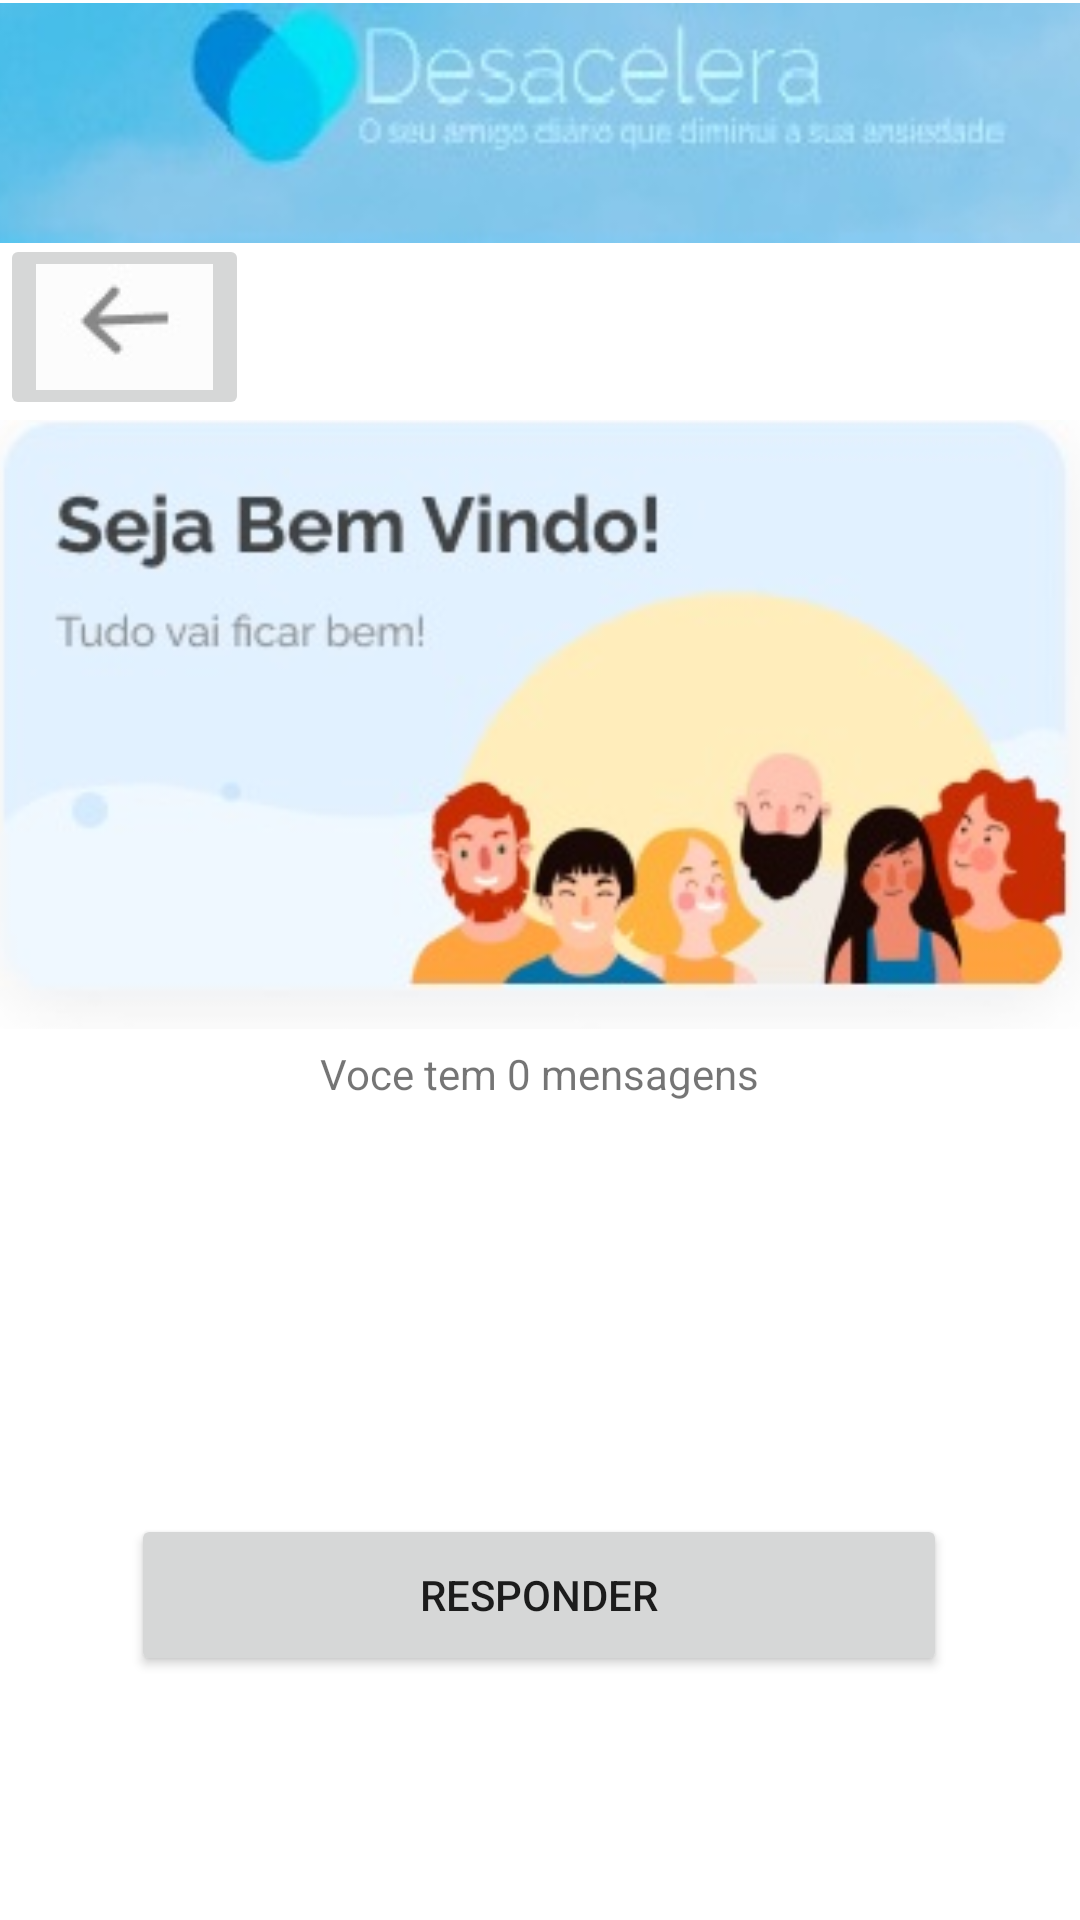

Where to tap for icons on this 1080*1920 app screen, as [x,y]:
fig voltar: [124,327]
